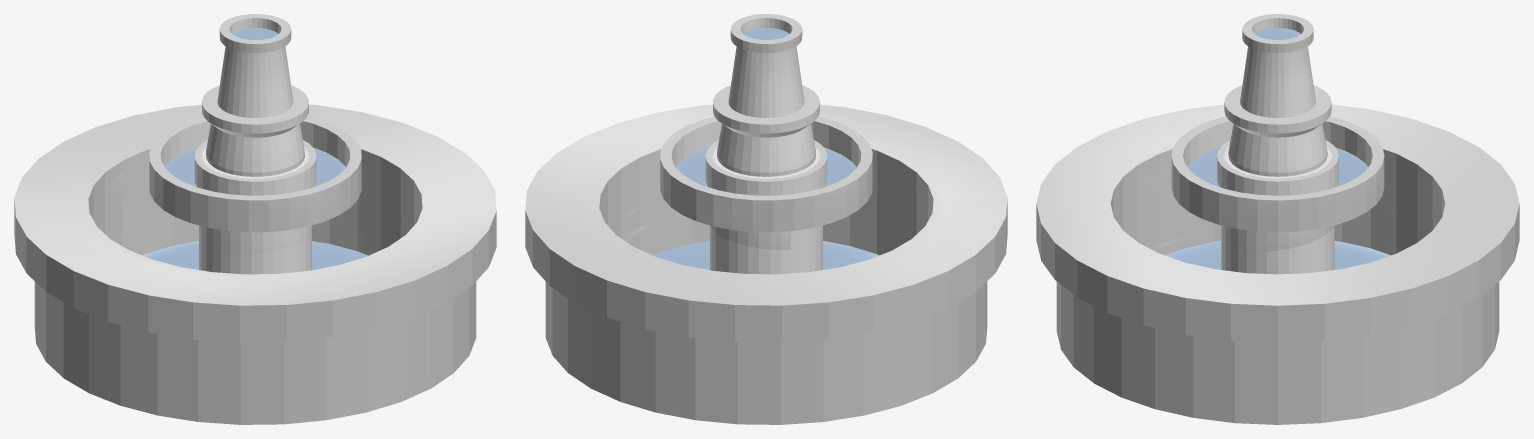
Rendered from Fuente_prefab.fbx.
The picture shows the model from 3 angles, left to right: view 1: azimuth 30°, elevation 25°; view 2: azimuth 150°, elevation 25°; view 3: azimuth 270°, elevation 25°; orthographic projection.
Visible parts, largest first — view 1: Cylinder; view 2: Cylinder; view 3: Cylinder.
Boxes of the visible parts, x1,y1,x2,y2 form: Cylinder: (14, 14, 496, 424); Cylinder: (525, 14, 1007, 424); Cylinder: (1036, 14, 1519, 424).
Size of the model in its own units: 493 by 341 by 493.
Materials: 1 (1 with a texture image).
